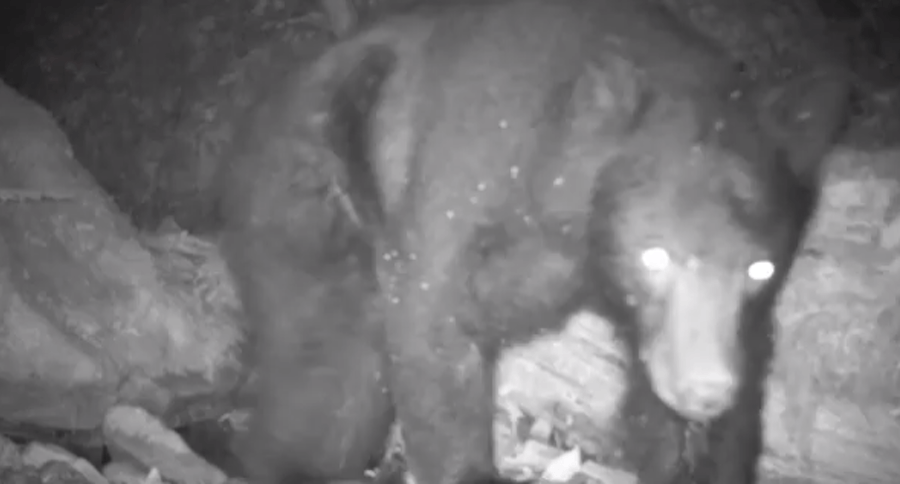bear: (172, 1, 838, 482)
